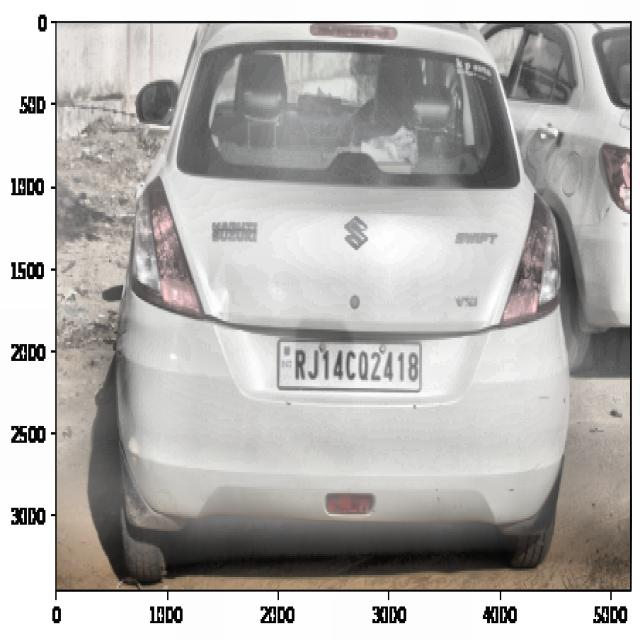license_plate: (287, 340, 424, 394)
